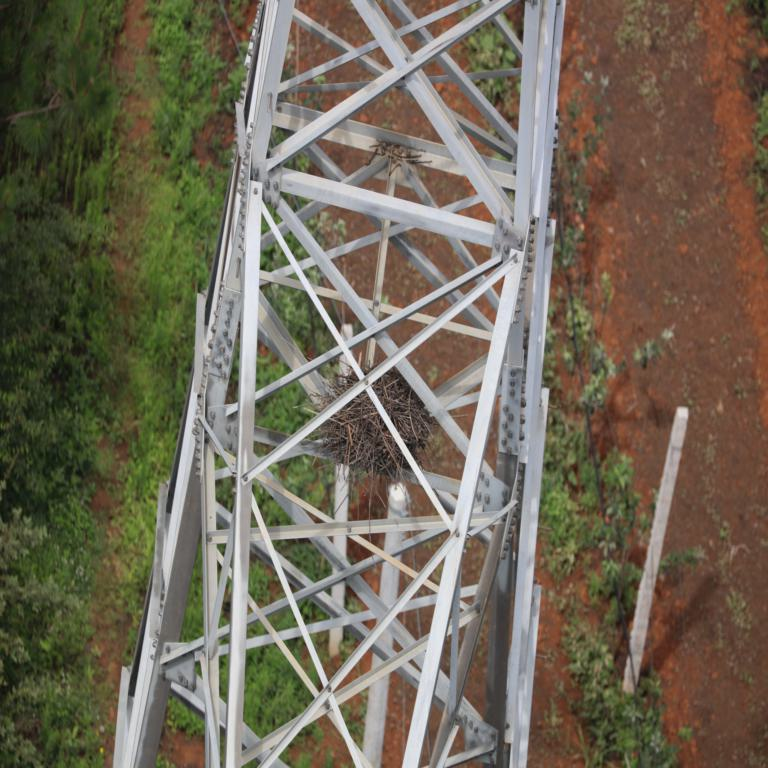nest: (315, 367, 427, 480)
